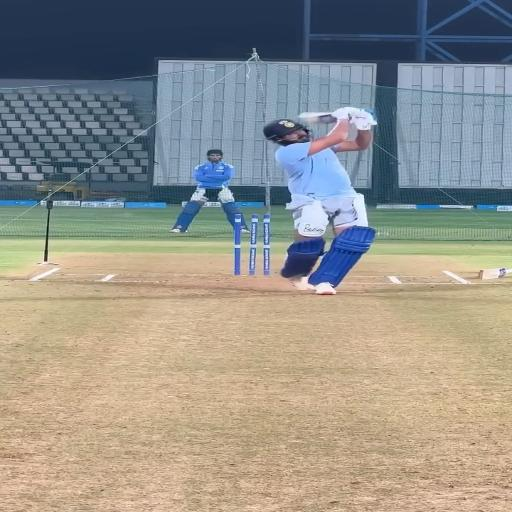Cricket bat: (299, 112, 333, 123)
